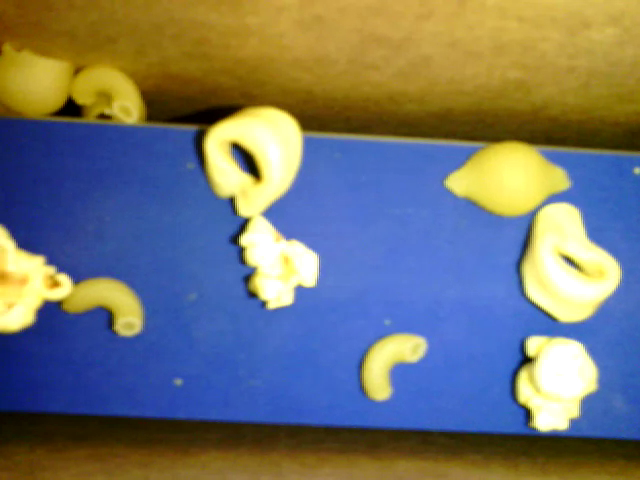elbow: (61, 277, 143, 336), (361, 333, 427, 399), (71, 65, 141, 123)
shell: (443, 141, 571, 215), (1, 43, 74, 117), (82, 92, 146, 124)
tortellini: (518, 203, 620, 322), (202, 105, 303, 217)
